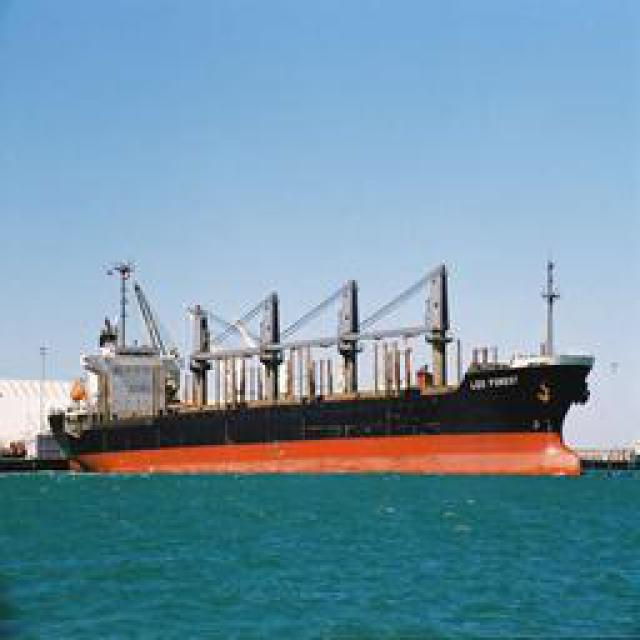Ship: (30, 248, 600, 476)
